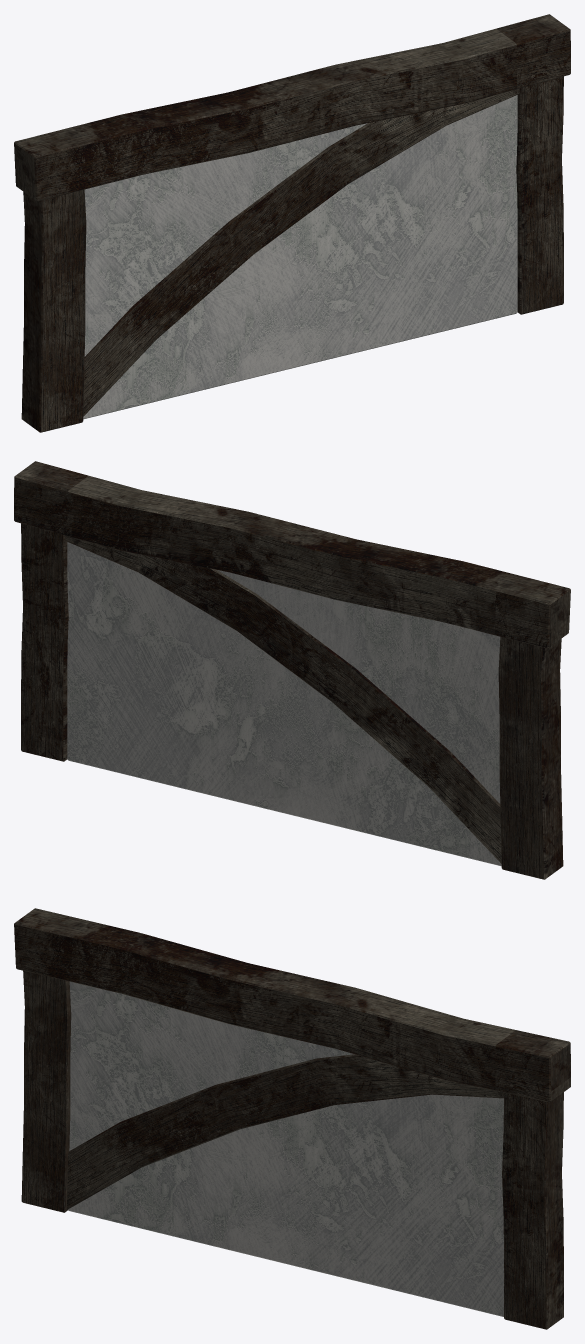
The model's file is TudorWall5.fbx.
3 views of the same model, one above another, from view 1: azimuth 30°, elevation 25°; view 2: azimuth 150°, elevation 25°; view 3: azimuth 330°, elevation 25° (orthographic).
Parts seen in each view (by area): view 1: White Wall Round 4m; view 2: White Wall Round 4m; view 3: White Wall Round 4m.
Boxes of the visible parts, x1,y1,x2,y2 form: White Wall Round 4m: [14, 14, 570, 432]; White Wall Round 4m: [14, 461, 570, 879]; White Wall Round 4m: [14, 908, 570, 1329].
Bounding box in the file's own units: 488 × 244 × 33.61.
